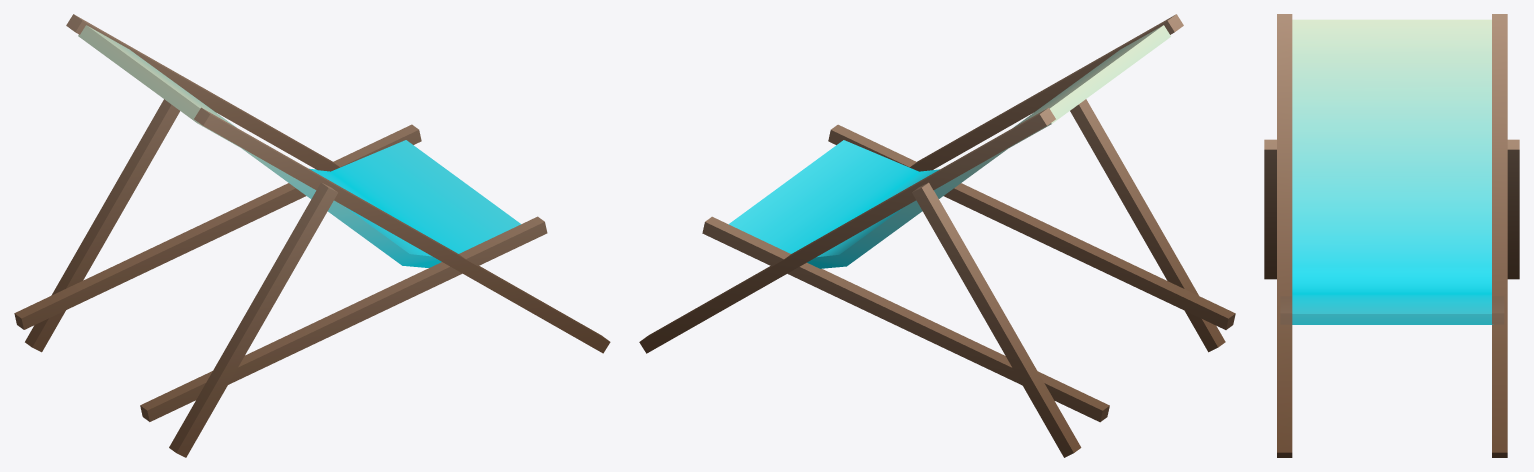
File: Asset_BeachChair.glb
The picture shows the model from 3 angles, left to right: view 1: azimuth 30°, elevation 25°; view 2: azimuth 150°, elevation 25°; view 3: azimuth 270°, elevation 25°; orthographic projection. The views are drawn at different scales.
Visible parts, largest first — view 1: Mesh.013; view 2: Mesh.013; view 3: Mesh.013.
Part boxes in pixels (box(x1,y1,x2,y2)): Mesh.013: box(14, 14, 610, 457); Mesh.013: box(639, 14, 1235, 457); Mesh.013: box(1264, 14, 1519, 457).
Size of what is drawn, in the model's own units: 2.12 by 1.47 by 1.21.
1 material, 1 textured.
